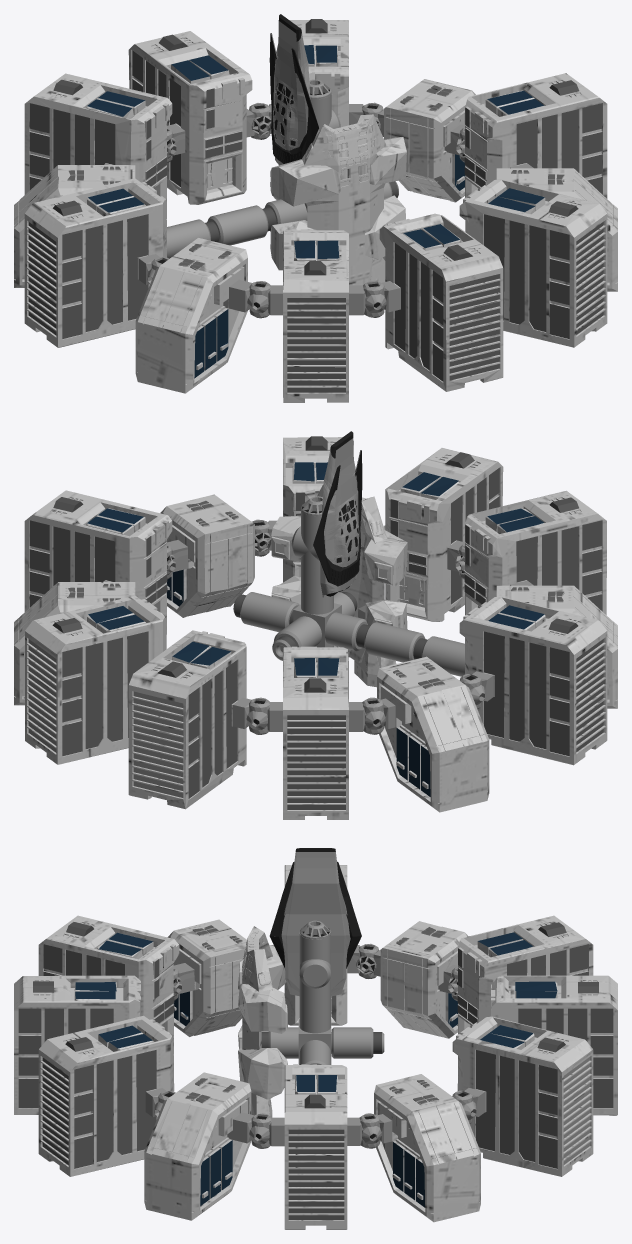
File: endurance.obj
3 renders of one model, top to bottom at view 1: azimuth 30°, elevation 25°; view 2: azimuth 150°, elevation 25°; view 3: azimuth 270°, elevation 25°, orthographic. The views are drawn at different scales.
Parts seen in each view (by area): view 1: BOXES, SHIP2, RING, ship1.001, MIDDLE; view 2: BOXES, MIDDLE, SHIP2, ship1.001, RING; view 3: BOXES, ship1.001, MIDDLE, SHIP2, RING.
Part boxes in pixels (left/top/right/bottom): BOXES: left=14, top=19, right=617, bottom=402; SHIP2: left=270, top=114, right=406, bottom=285; RING: left=104, top=102, right=533, bottom=318; ship1.001: left=269, top=14, right=318, bottom=165; MIDDLE: left=166, top=79, right=398, bottom=258; BOXES: left=14, top=436, right=617, bottom=819; MIDDLE: left=233, top=496, right=465, bottom=676; SHIP2: left=271, top=484, right=407, bottom=687; ship1.001: left=313, top=431, right=362, bottom=597; RING: left=103, top=519, right=533, bottom=734; BOXES: left=14, top=865, right=617, bottom=1229; ship1.001: left=269, top=848, right=361, bottom=996; MIDDLE: left=261, top=920, right=384, bottom=1064; SHIP2: left=238, top=926, right=287, bottom=1117; RING: left=145, top=943, right=485, bottom=1148.
Size of the model in its own units: 57.54 by 28.12 by 57.54.
Materials: 8 (1 with a texture image).
